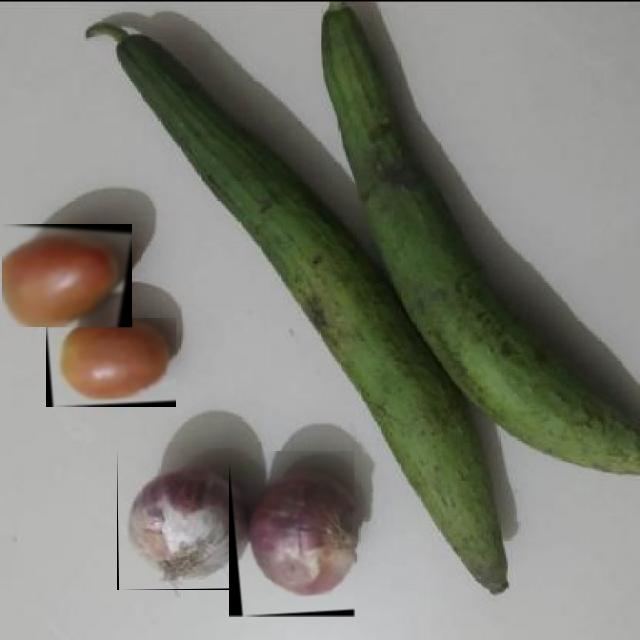onion: (230, 452, 356, 618), (117, 448, 243, 590)
tomato: (2, 224, 132, 327), (46, 318, 176, 407)
